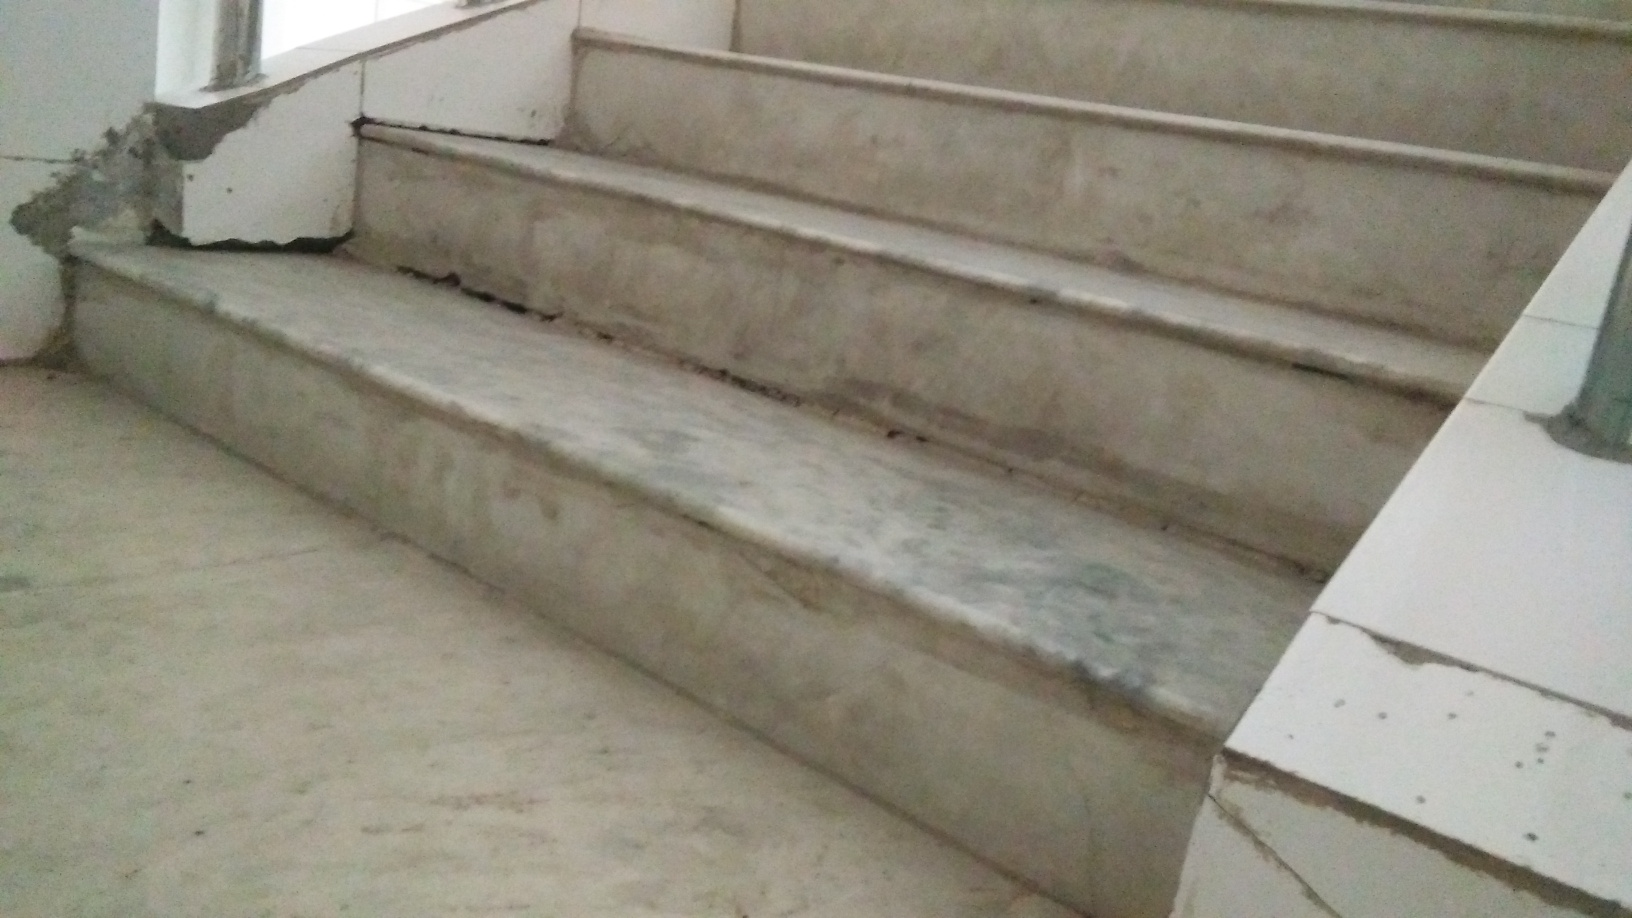stairs_up: (17, 7, 1613, 741)
